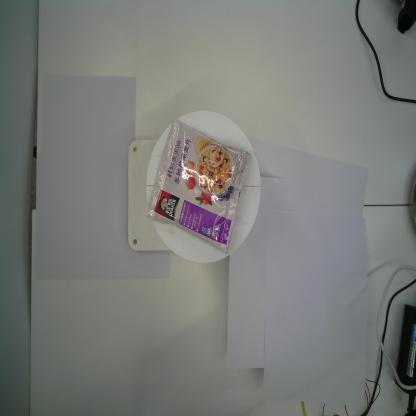Instant Drink: (146, 118, 252, 255)
